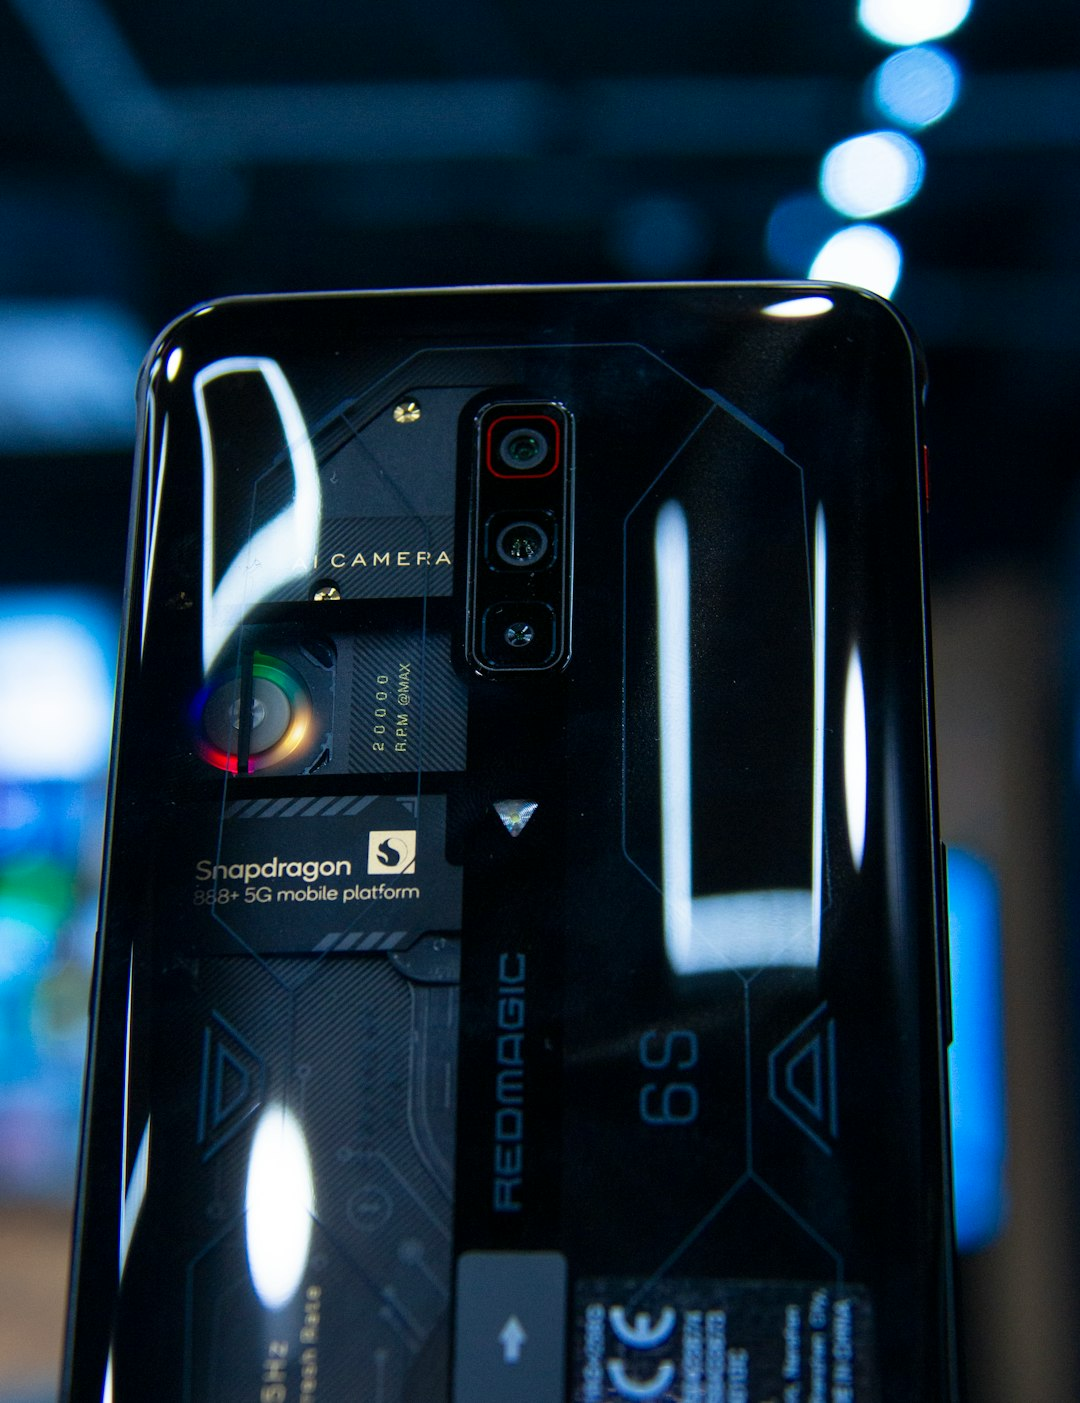phone: (53, 261, 968, 1403)
